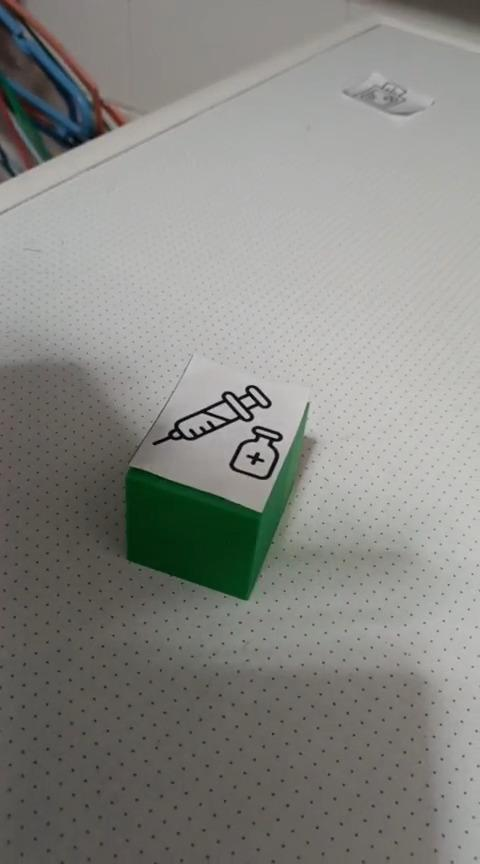antiseptic cream: (122, 351, 311, 600)
